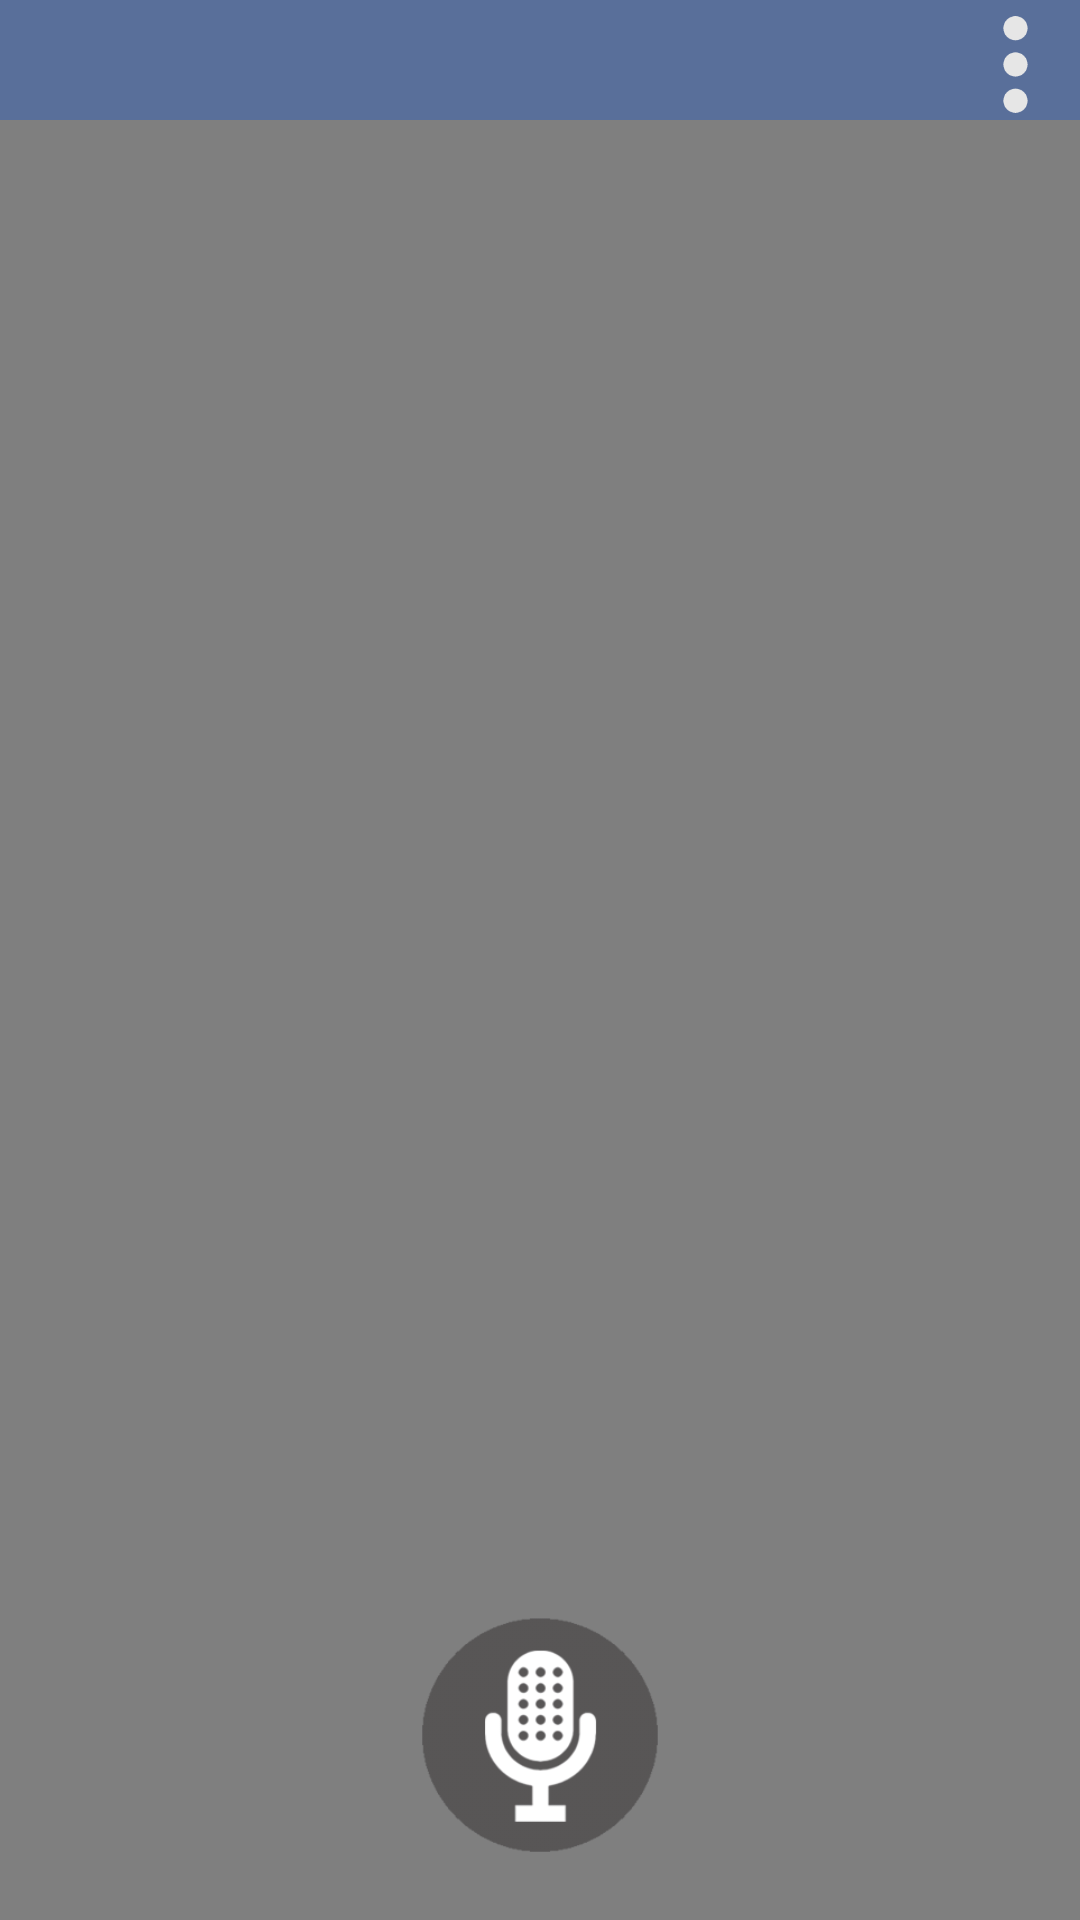

Named icons in this screenshot (1080w x 1920h) and their centers, [x,y]:
record: [540,1735]
setting: [1015,64]
